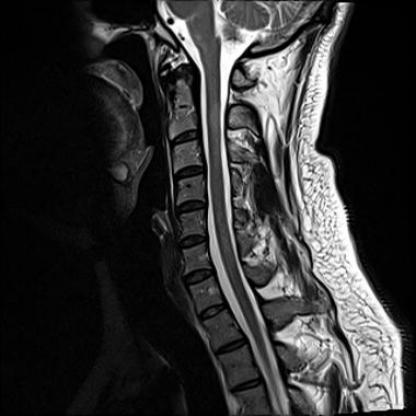Disc Bulgerotation: (181, 266, 214, 291), (172, 161, 206, 182)
